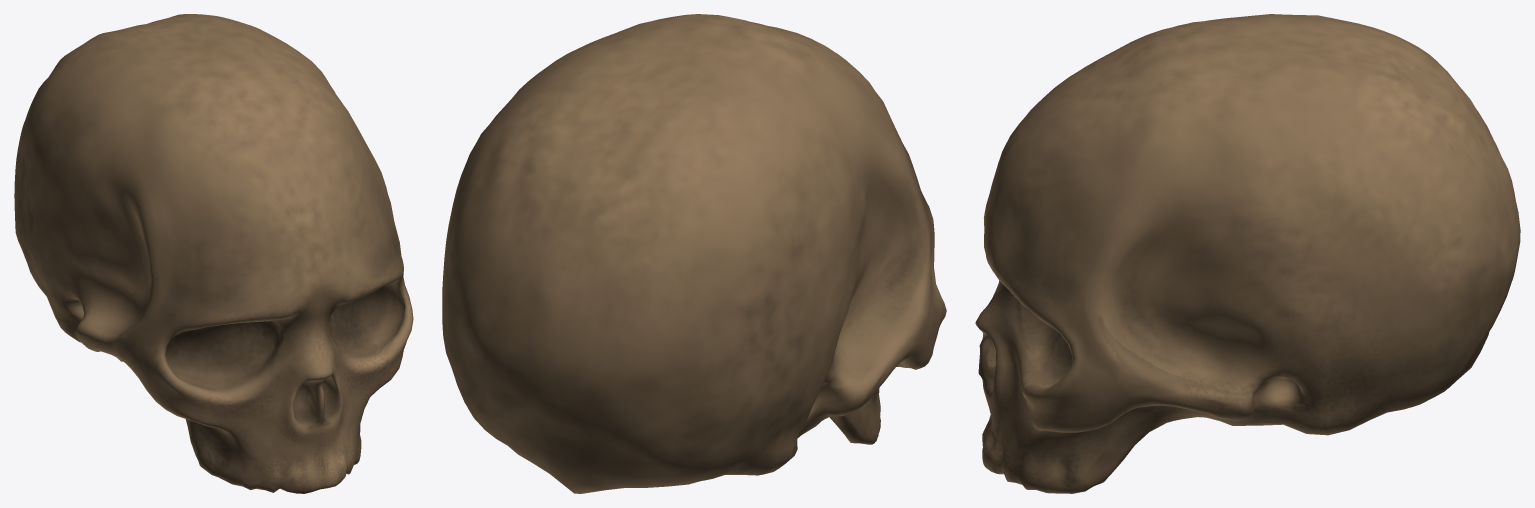
File: skull.fbx
3 views of the same model, side by side, from view 1: azimuth 30°, elevation 25°; view 2: azimuth 150°, elevation 25°; view 3: azimuth 270°, elevation 25° (orthographic). The views are drawn at different scales.
Parts seen in each view (by area): view 1: skull; view 2: skull; view 3: skull.
Part boxes in pixels (left/top/right/bottom): skull: left=14, top=14, right=413, bottom=493; skull: left=442, top=14, right=946, bottom=493; skull: left=975, top=14, right=1520, bottom=493.
Bounding box in the file's own units: 15.06 × 18.76 × 22.
